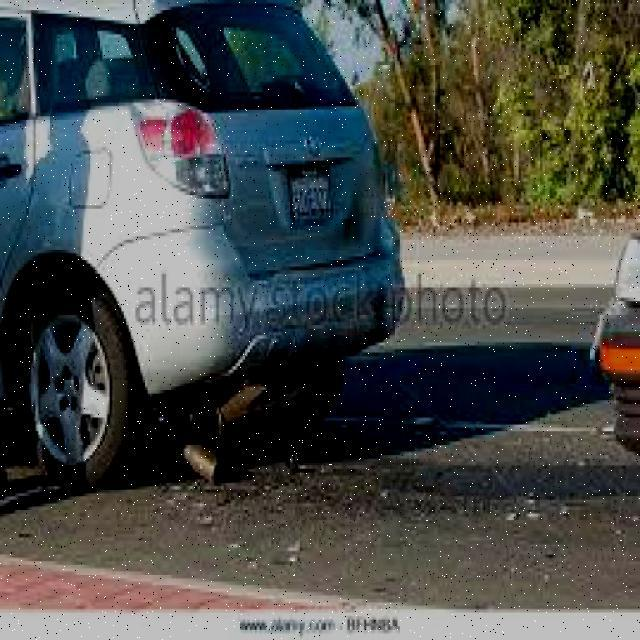car damage: (340, 179, 396, 331)
